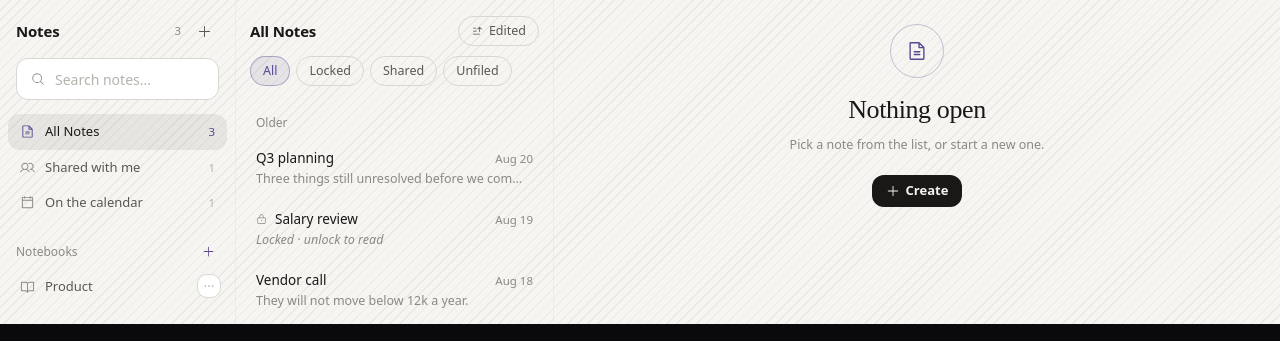
Test case: NotesWorkspace › narrows the list with the locked filter
Click the tab "Locked": {"x": 330, "y": 71} [296, 56, 364, 86]
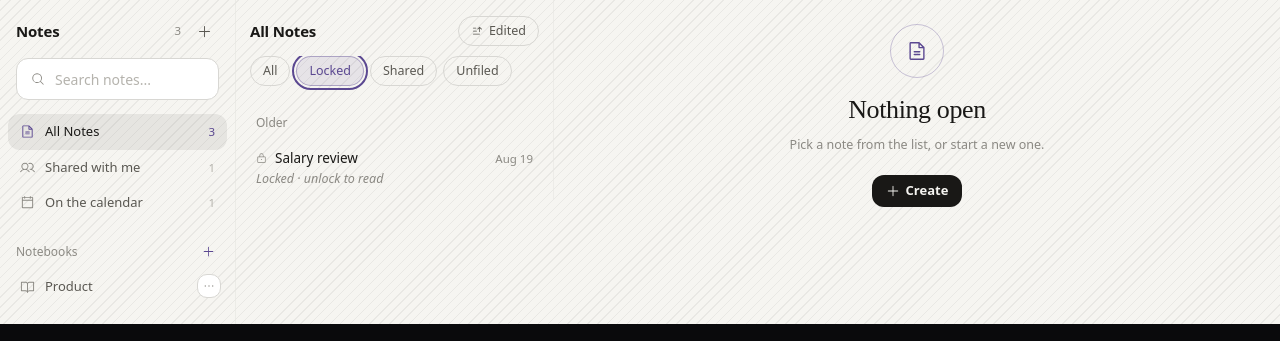
Expected: the button "Salary review Aug 19 Locked · unlock to read" is shown, [244, 138, 545, 199]
Expected: the button "Vendor call" is gone
